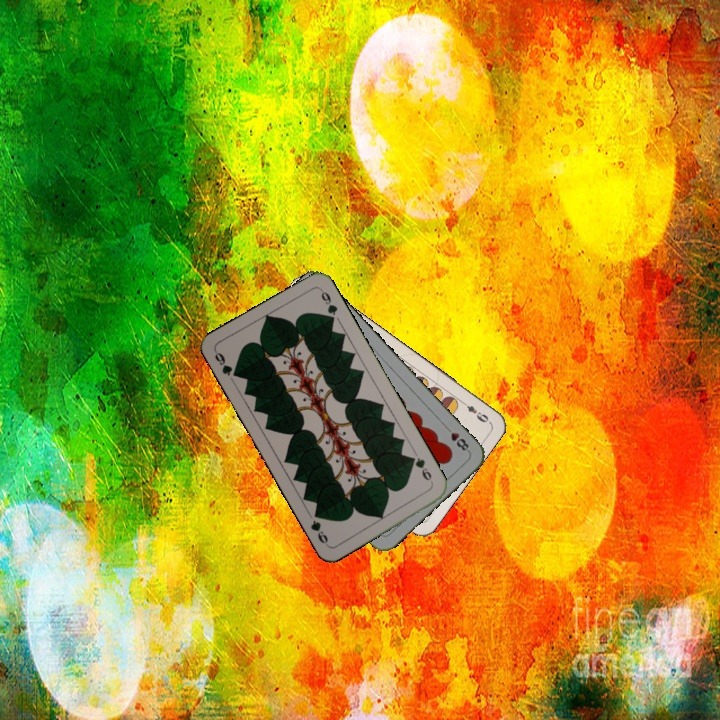E9: (457, 397, 491, 425)
G9: (211, 347, 242, 380), (406, 453, 436, 487)
H8: (441, 422, 472, 455)
